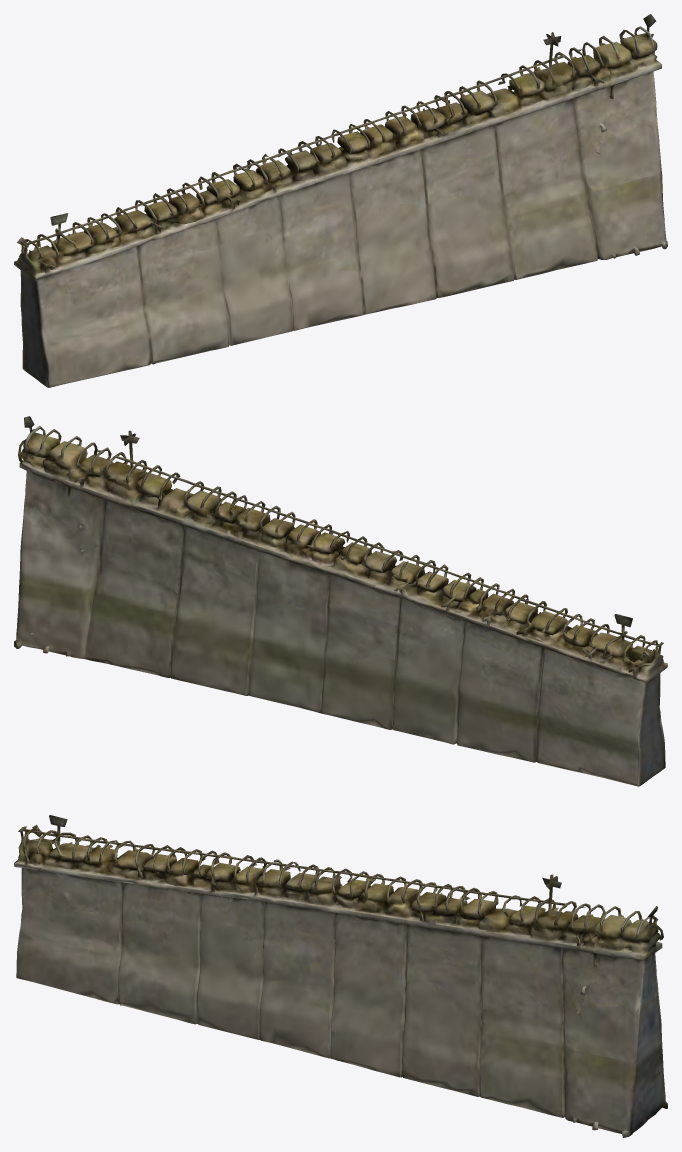
Rendered from base_wall.glb.
The picture shows the model from 3 angles, top to bottom: view 1: azimuth 30°, elevation 25°; view 2: azimuth 150°, elevation 25°; view 3: azimuth 330°, elevation 25°; orthographic projection.
Parts seen in each view (by area): view 1: tripo_node_d00295aa-3169-48e8-ac2f-dec2ae1dc904; view 2: tripo_node_d00295aa-3169-48e8-ac2f-dec2ae1dc904; view 3: tripo_node_d00295aa-3169-48e8-ac2f-dec2ae1dc904.
Part boxes in pixels (bbox=[...]): tripo_node_d00295aa-3169-48e8-ac2f-dec2ae1dc904: bbox=[14, 14, 667, 387]; tripo_node_d00295aa-3169-48e8-ac2f-dec2ae1dc904: bbox=[14, 416, 667, 786]; tripo_node_d00295aa-3169-48e8-ac2f-dec2ae1dc904: bbox=[14, 815, 667, 1137].
Bounding box in the file's own units: 1 × 0.3393 × 0.1207.
1 material, 1 textured.
